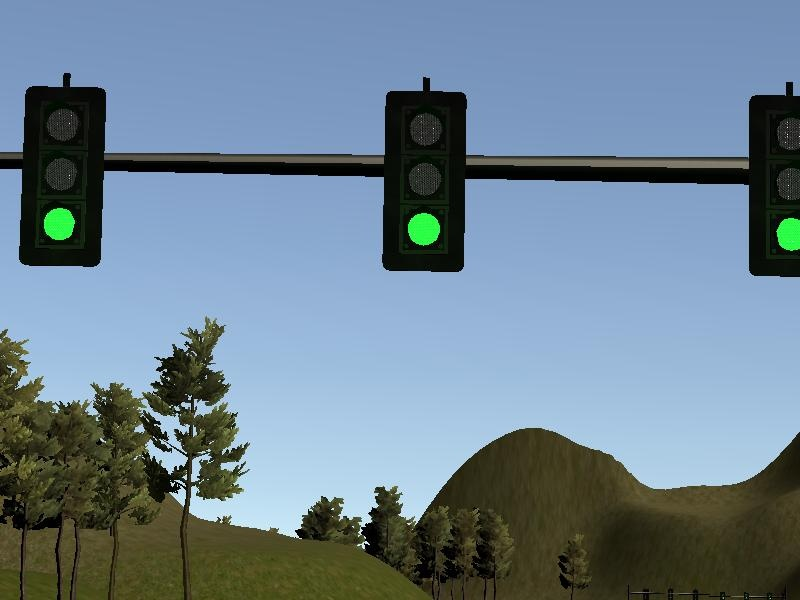GREEN: (379, 88, 470, 274), (17, 81, 105, 273), (746, 92, 795, 284)
